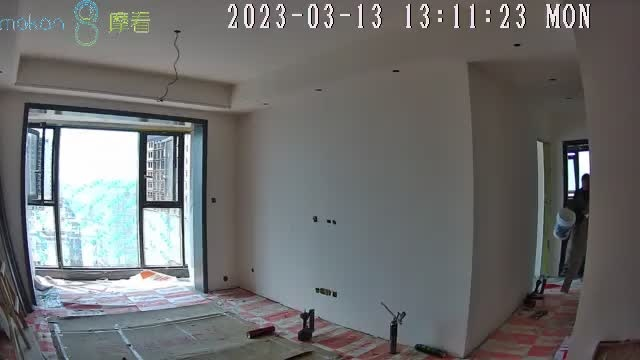people: (561, 174, 589, 292)
window: (23, 106, 195, 272)
